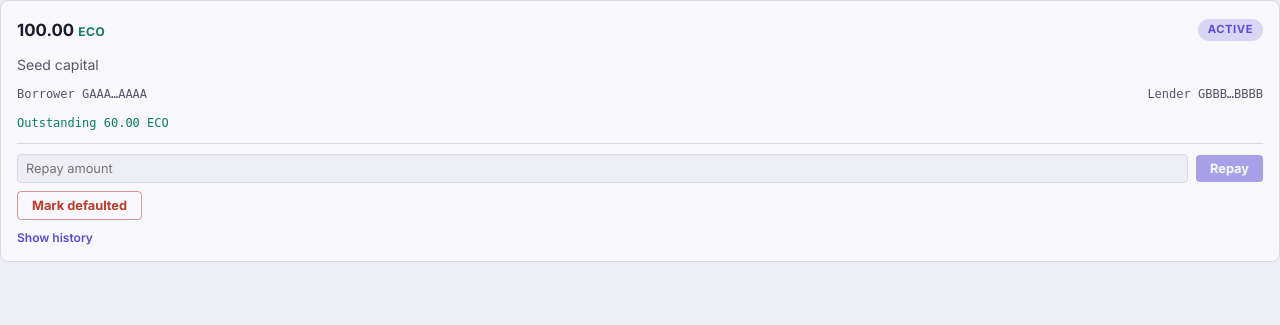
it: LoanCard › reveals the event history when the toggle is clicked
Check: the text "Created" is not shown
Click the button "Show history" at (55, 238), box [17, 230, 93, 245]
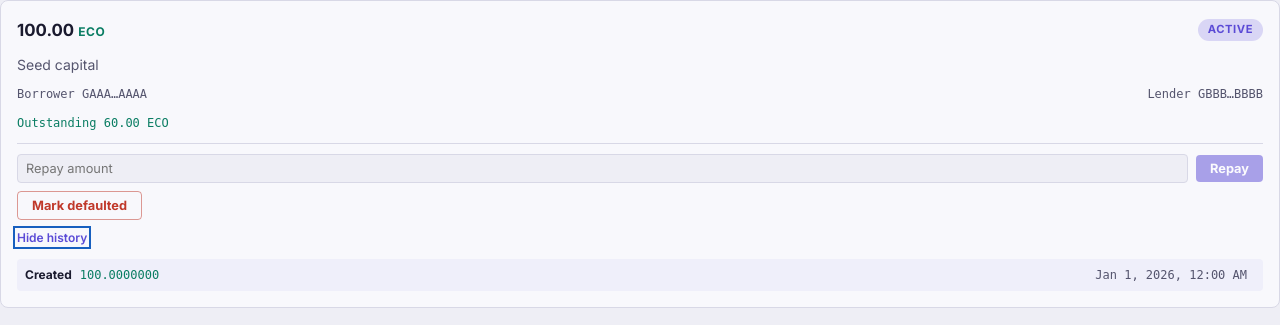
Check: the text "Created" is shown, box [25, 265, 72, 284]
Check: the button "Hide history" is shown, box [17, 230, 87, 245]
